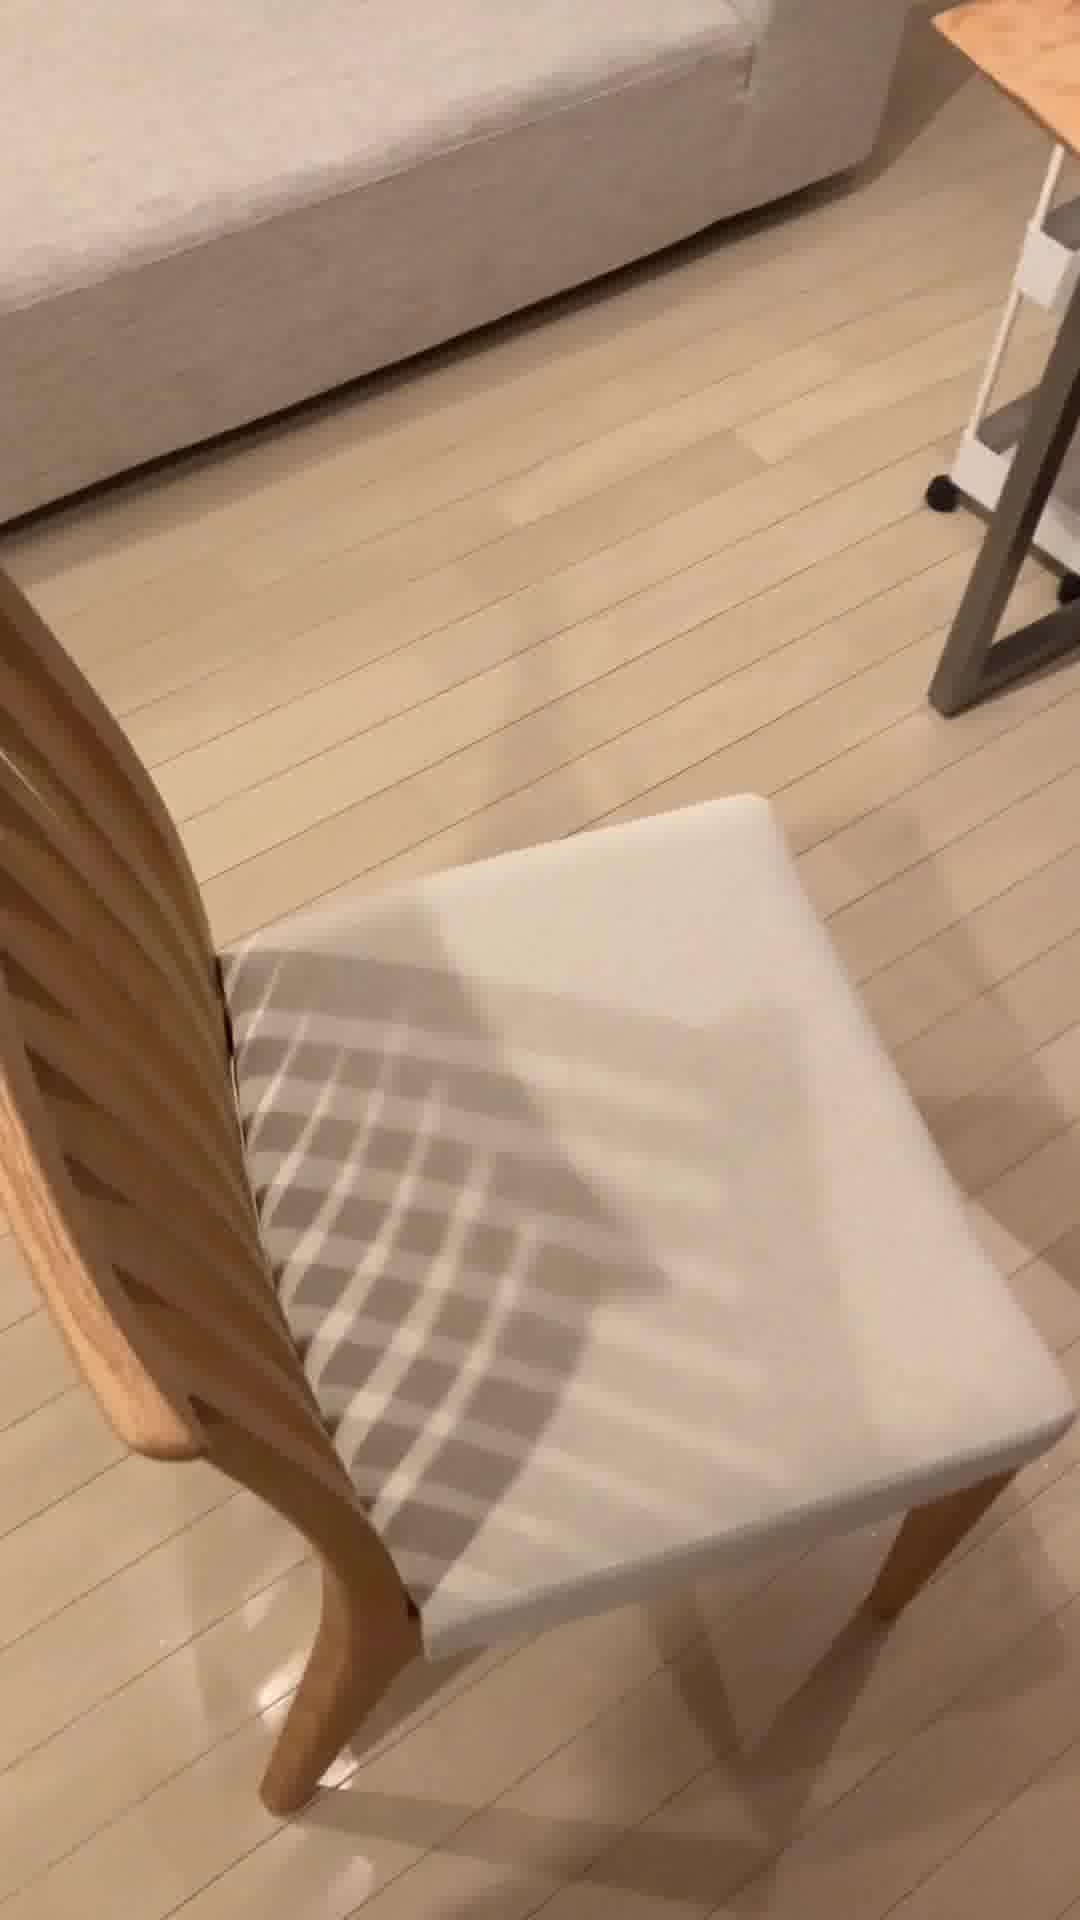takumikan-chair: (0, 556, 1080, 1822)
